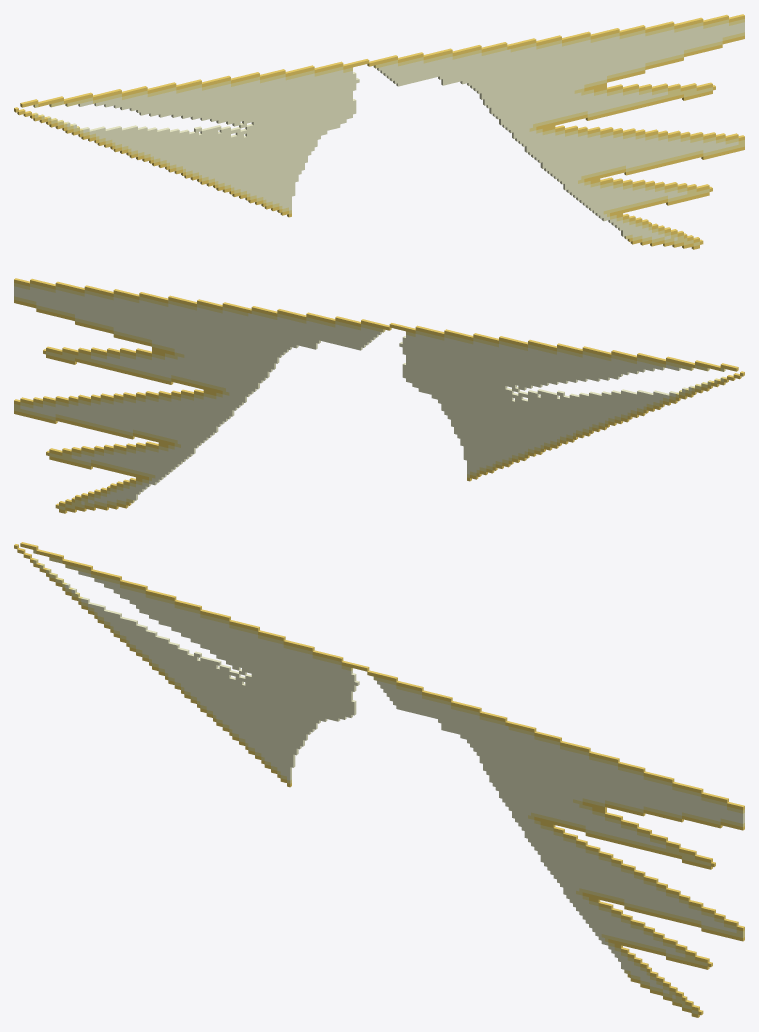
File: Fight_737_2_06_fx.obj
The picture shows the model from 3 angles, top to bottom: view 1: azimuth 30°, elevation 25°; view 2: azimuth 150°, elevation 25°; view 3: azimuth 330°, elevation 25°; orthographic projection.
Size of the model in its own units: 22.7 by 9.2 by 0.1.
1 material, 1 textured.
